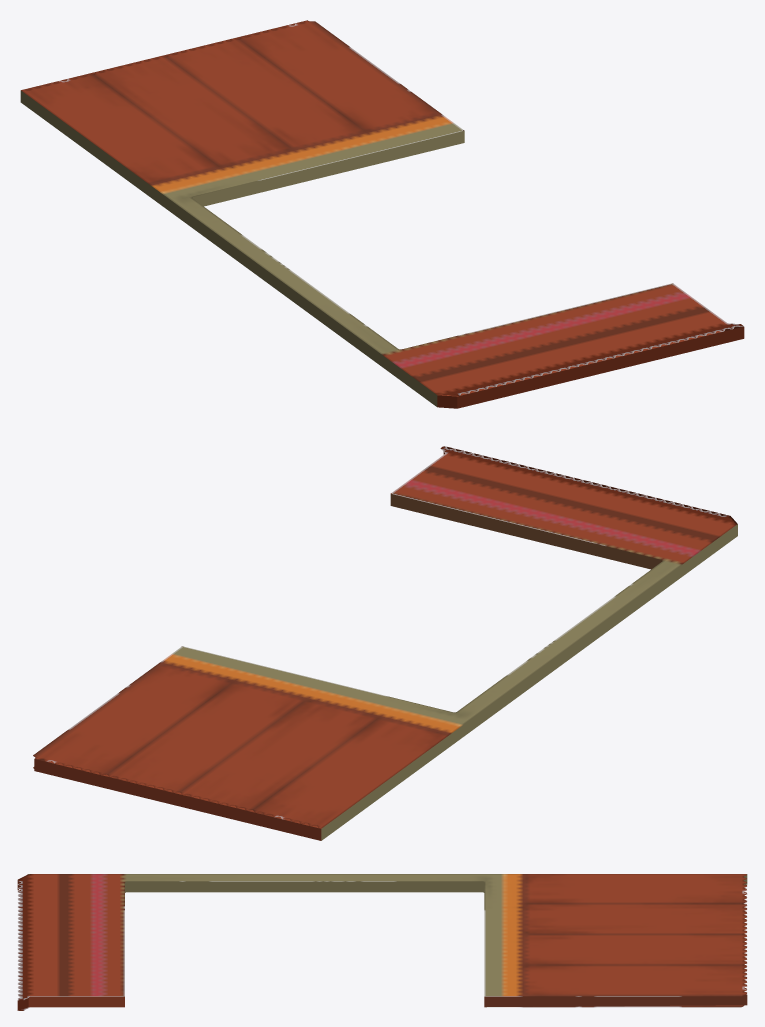
File: pz_native_location_restaurant_spiffos_01_67_frame.obj
3 renders of one model, top to bottom at view 1: azimuth 30°, elevation 25°; view 2: azimuth 150°, elevation 25°; view 3: azimuth 270°, elevation 25°, orthographic. The views are drawn at different scales.
Parts seen in each view (by area): view 1: pz_native_location_restaurant_spiffos_01_67_frame; view 2: pz_native_location_restaurant_spiffos_01_67_frame; view 3: pz_native_location_restaurant_spiffos_01_67_frame.
Part boxes in pixels (left/top/right/bottom): pz_native_location_restaurant_spiffos_01_67_frame: left=20, top=20, right=744, bottom=408; pz_native_location_restaurant_spiffos_01_67_frame: left=33, top=446, right=737, bottom=840; pz_native_location_restaurant_spiffos_01_67_frame: left=17, top=874, right=747, bottom=1010.
Bounding box in the file's own units: 1.06 × 0.04 × 2.54.
1 material, 1 textured.
